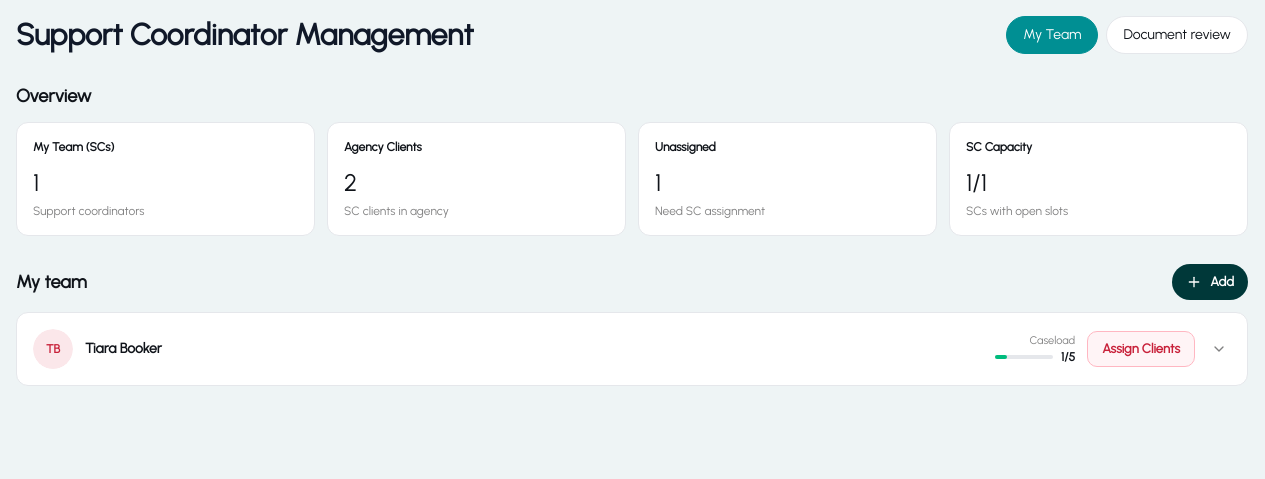
Test case: SupportCoordinatorManagement › fetches brief assigned client rows only when a coordinator expands
The image size is (1265, 479).
Later steps or results of the test are not shown.
Expected: the text "Tiara Booker" is shown, [85,340,162,357]
Click the button named "Expand Tiara Booker's clients" at (1219, 349), box [1207,337,1231,361]
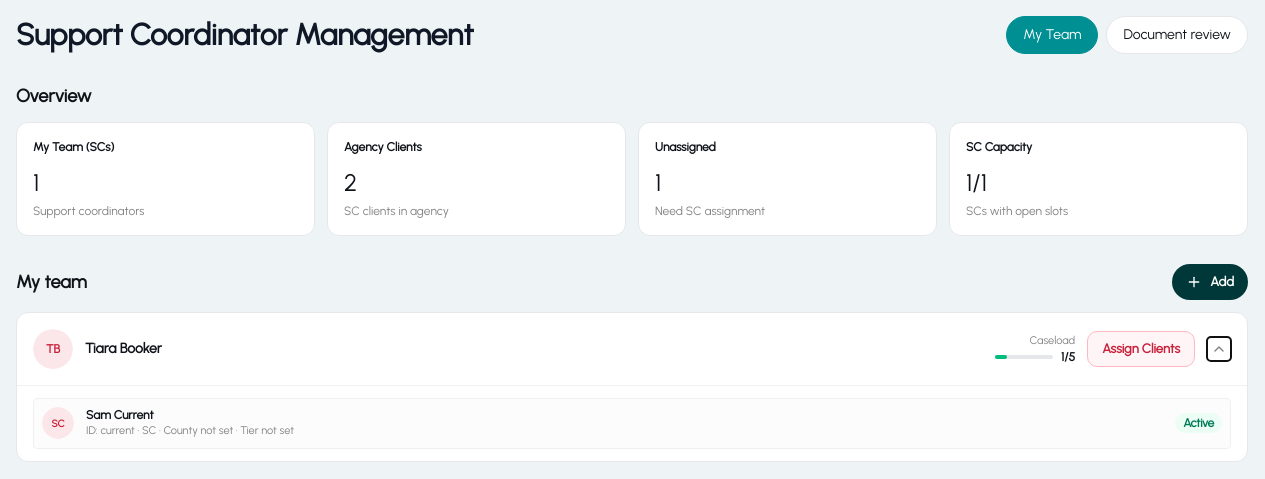
Now the link "Sam Current" is shown, box [33,398,1231,448]
